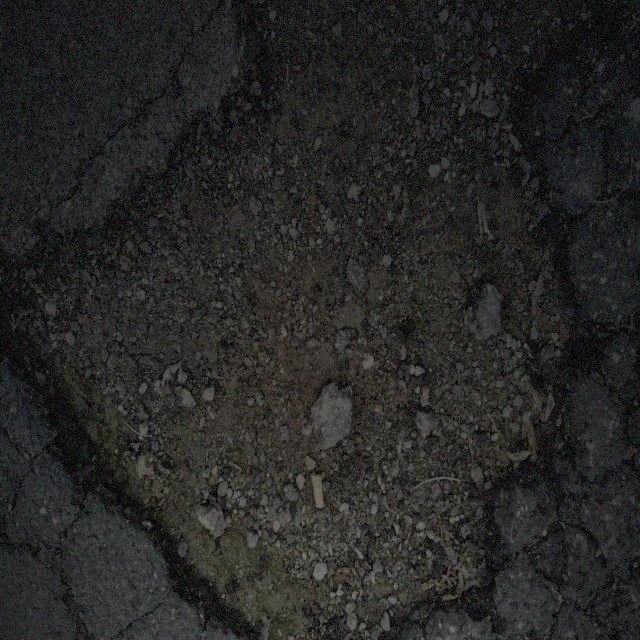pothole: (16, 22, 572, 616)
